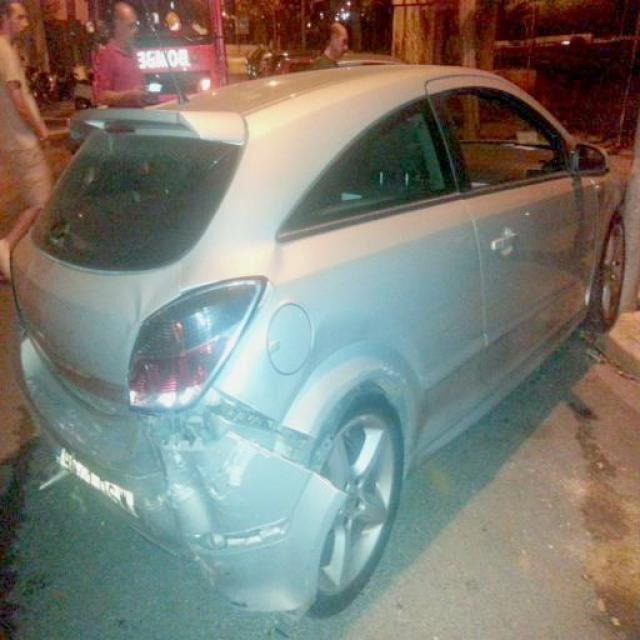car damage: (133, 444, 293, 585), (20, 342, 165, 488), (145, 387, 347, 491), (321, 362, 429, 446), (126, 282, 142, 338)
